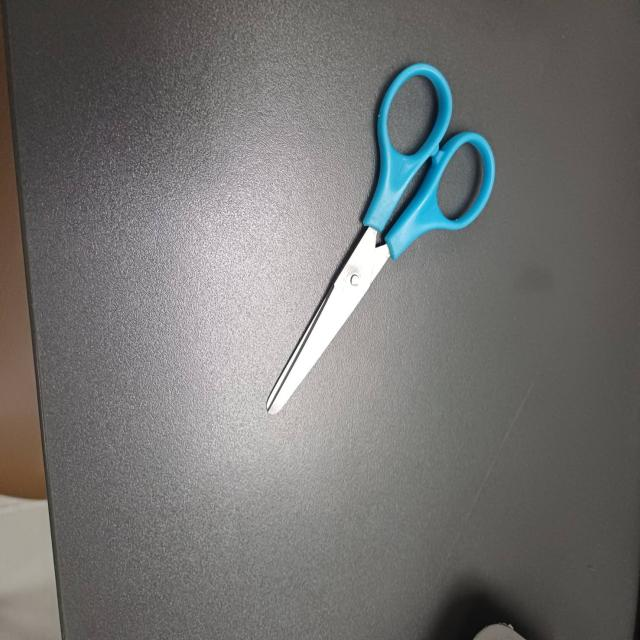scissors: (256, 51, 499, 432)
